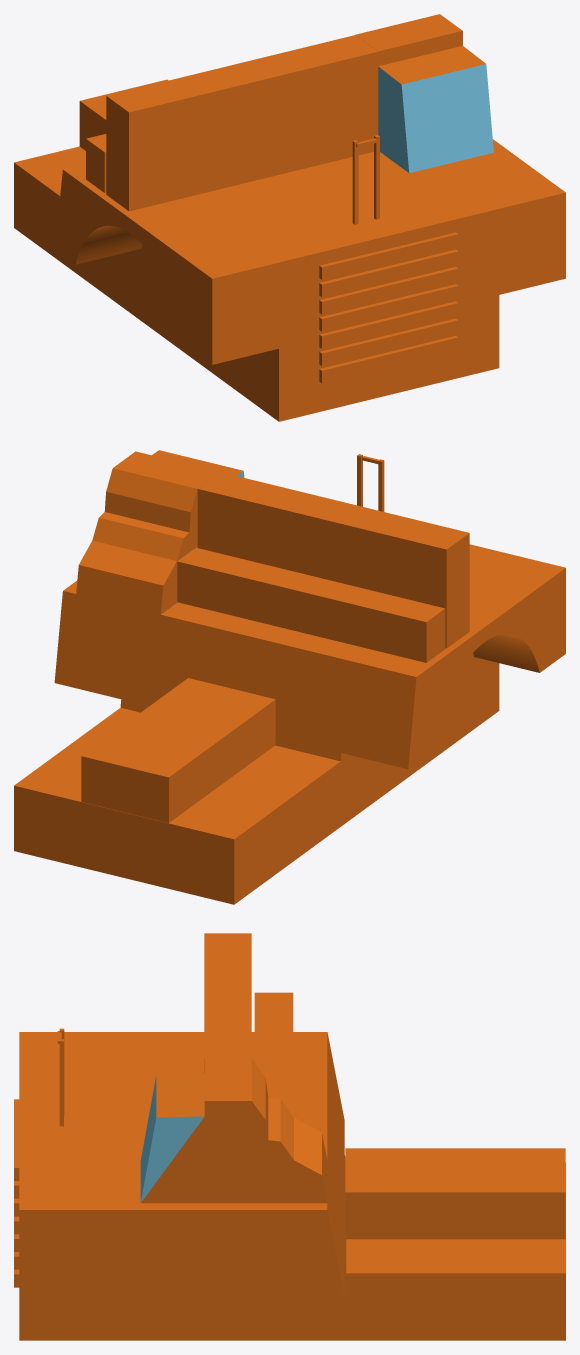
Rendered from safeai_Body.dae.
The picture shows the model from 3 angles, top to bottom: view 1: azimuth 30°, elevation 25°; view 2: azimuth 150°, elevation 25°; view 3: azimuth 270°, elevation 25°; orthographic projection. The views are drawn at different scales.
Parts seen in each view (by area): view 1: node0; view 2: node0; view 3: node0.
Boxes of the visible parts, left/top/right/bottom form: node0: left=14, top=14, right=565, bottom=421; node0: left=14, top=450, right=565, bottom=904; node0: left=14, top=933, right=565, bottom=1340.
Bounding box in the file's own units: 8.09 × 10.6 × 5.65.
